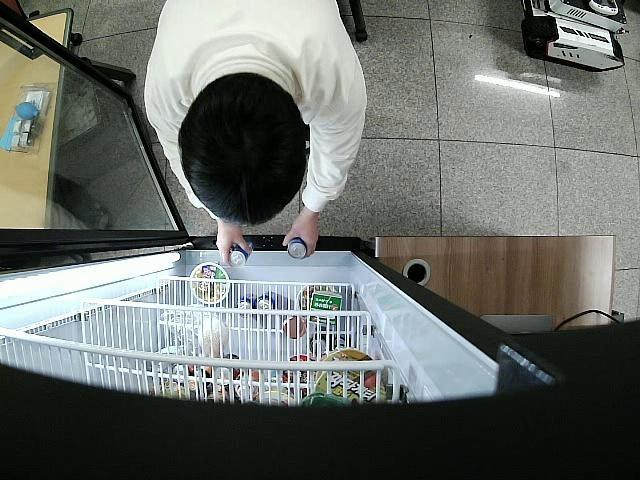15_letsbe: (228, 241, 254, 266), (285, 238, 308, 258)
